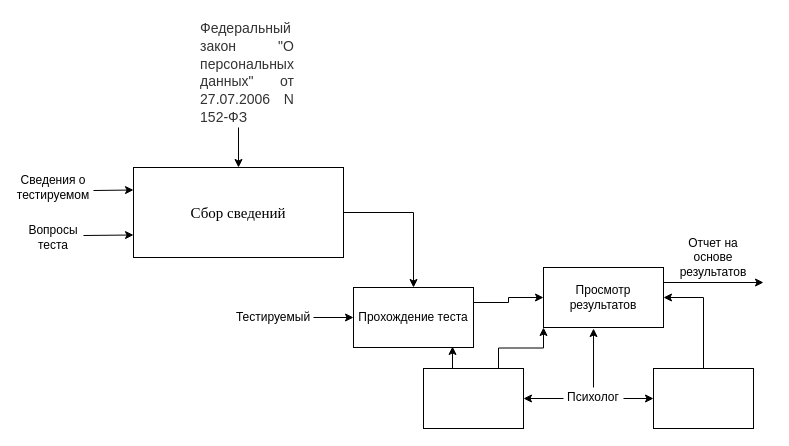
Some shapes in this 789 by 446 pixel diagram are drawn without their labels. Here are the shapes that lost their labels. From the top down, the centre of each, then its label:
At point 473,398: "Добавление и удаление теста".
At point 703,398: "Добавление тестируемого".
